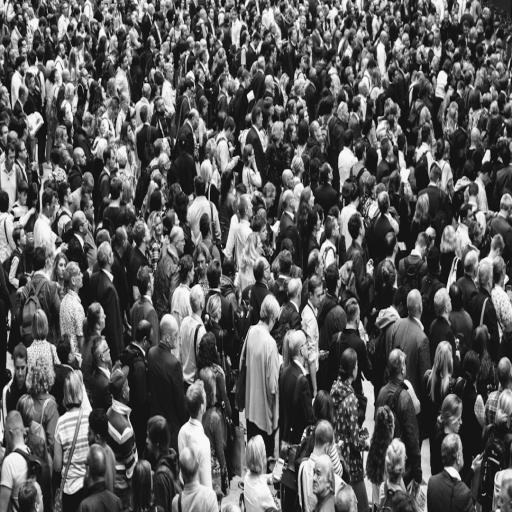face: (313, 463, 328, 496), (15, 358, 27, 386), (310, 287, 322, 308), (451, 412, 462, 433), (175, 235, 185, 256), (84, 200, 94, 220), (102, 341, 111, 363), (56, 258, 65, 279), (197, 254, 206, 275), (6, 150, 15, 169), (74, 272, 83, 289), (48, 198, 56, 217), (154, 217, 162, 236), (99, 307, 105, 332), (0, 127, 8, 145), (259, 225, 267, 242), (20, 229, 27, 246), (19, 191, 27, 205)
